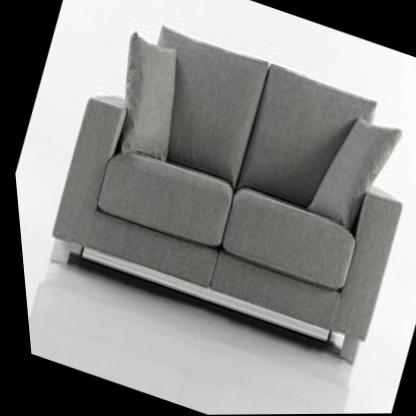Sofa: (21, 8, 416, 371)
